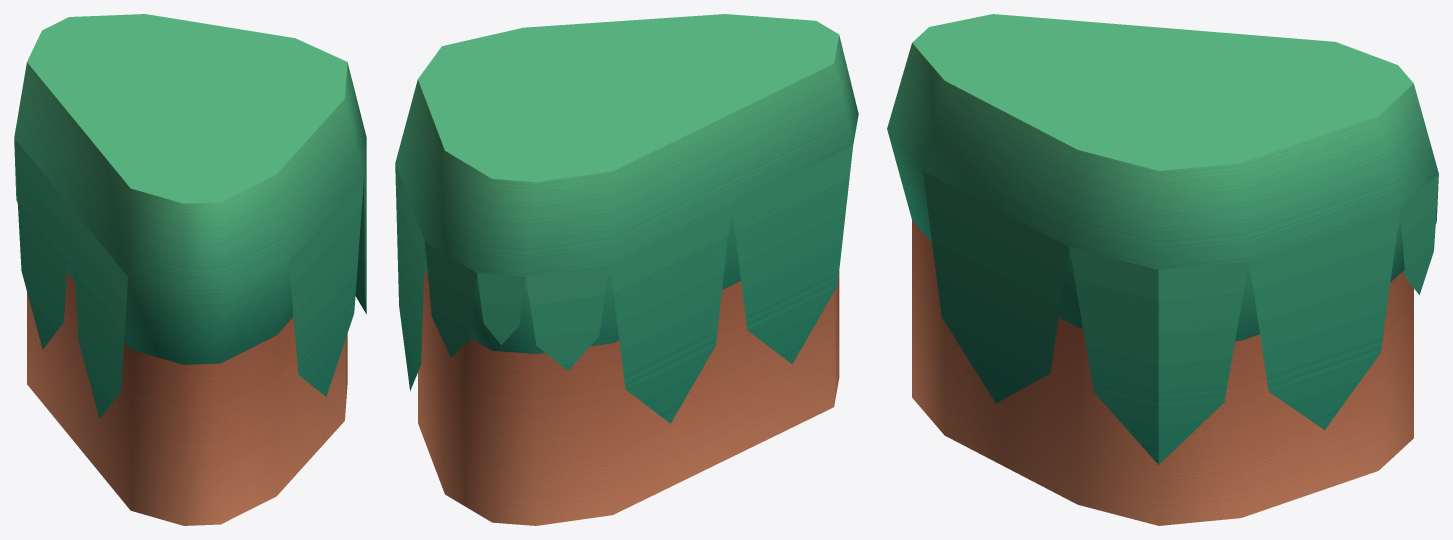
The model's file is block-grass-corner-overhang-low.016_lev2.glb.
3 renders of one model, left to right at view 1: azimuth 30°, elevation 25°; view 2: azimuth 150°, elevation 25°; view 3: azimuth 270°, elevation 25°, orthographic. The views are drawn at different scales.
Visible parts, largest first — view 1: block-grass-corner-overhang-low.016_lev2; view 2: block-grass-corner-overhang-low.016_lev2; view 3: block-grass-corner-overhang-low.016_lev2.
Boxes of the visible parts, left/top/right/bottom form: block-grass-corner-overhang-low.016_lev2: left=14, top=14, right=366, bottom=525; block-grass-corner-overhang-low.016_lev2: left=395, top=14, right=858, bottom=525; block-grass-corner-overhang-low.016_lev2: left=887, top=14, right=1438, bottom=525.
Bounding box in the file's own units: 1.82 × 1.74 × 2.46.
1 material, 1 textured.
